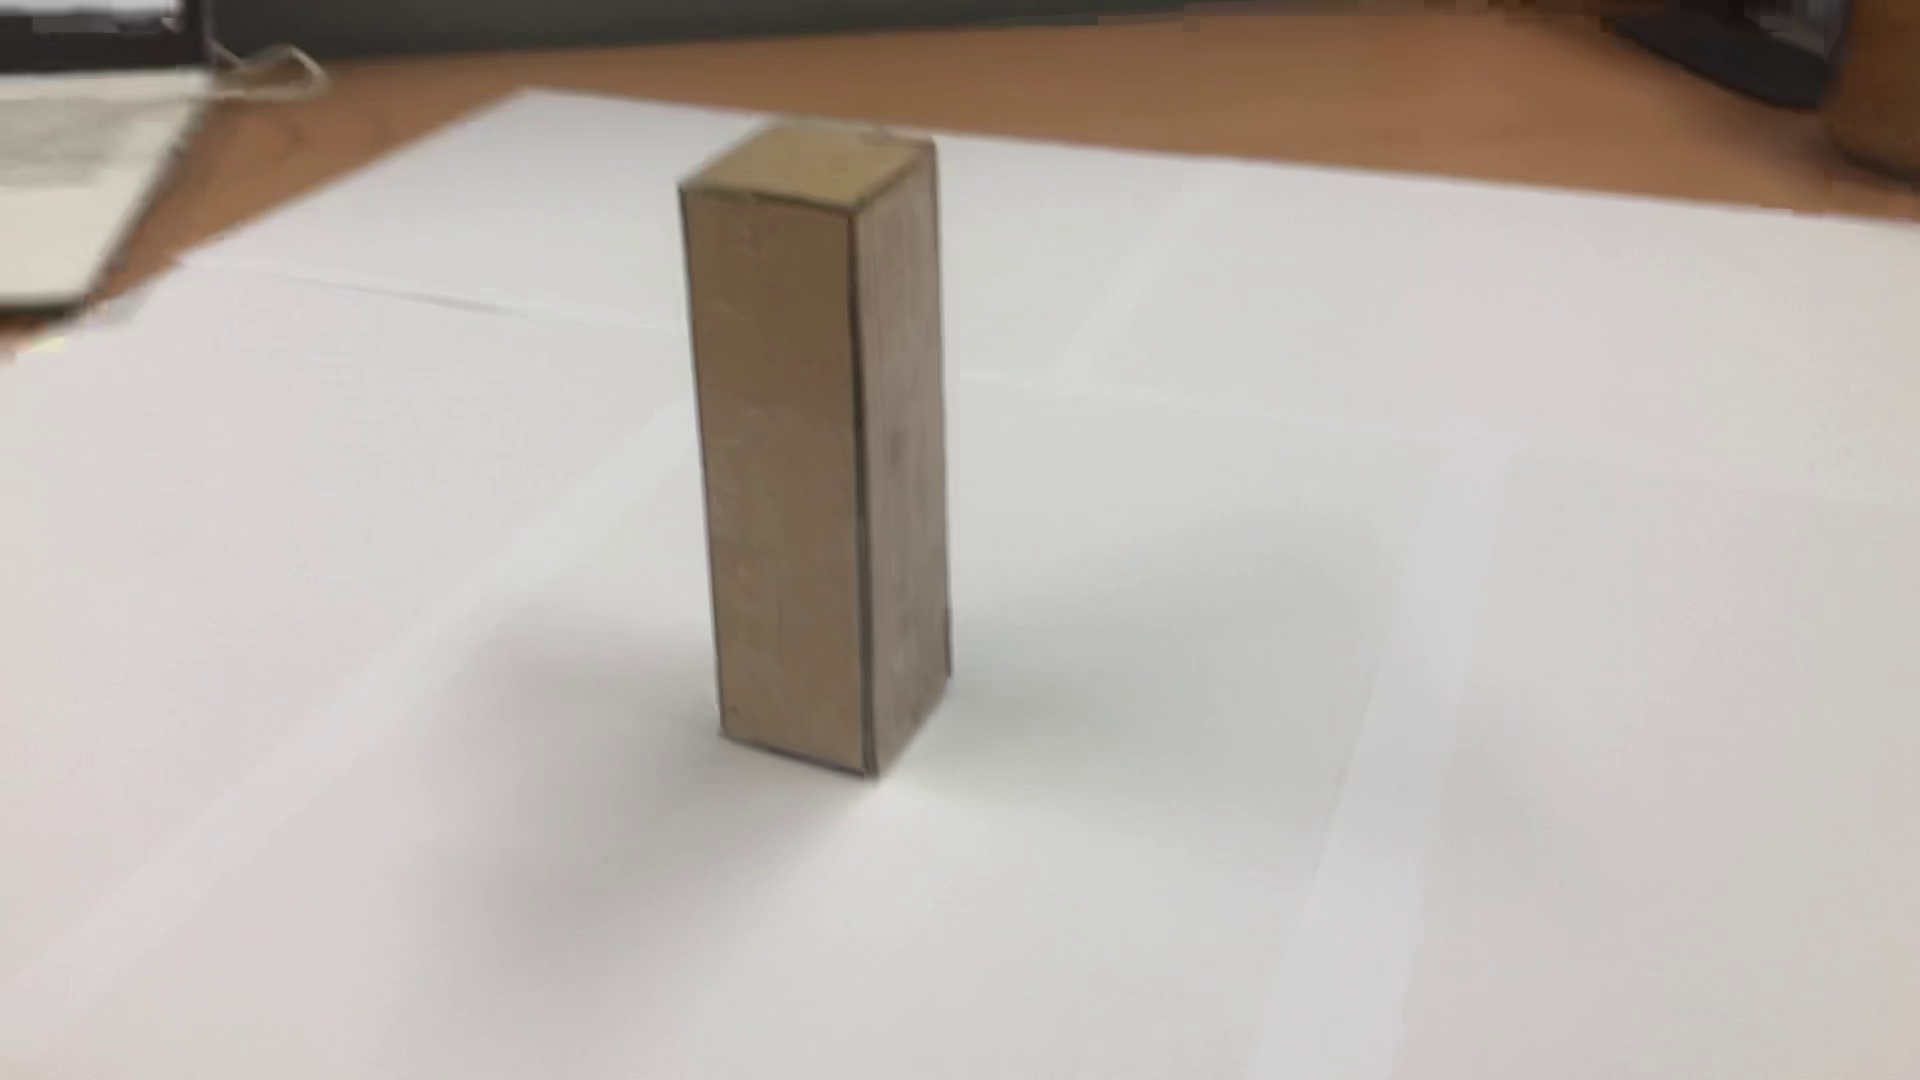box: (651, 105, 980, 802)
